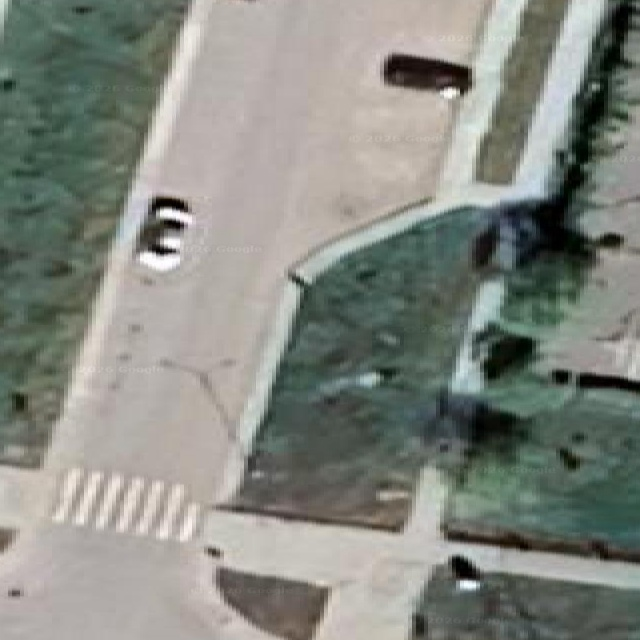car: (136, 196, 192, 271), (382, 52, 471, 98), (448, 555, 480, 591)
